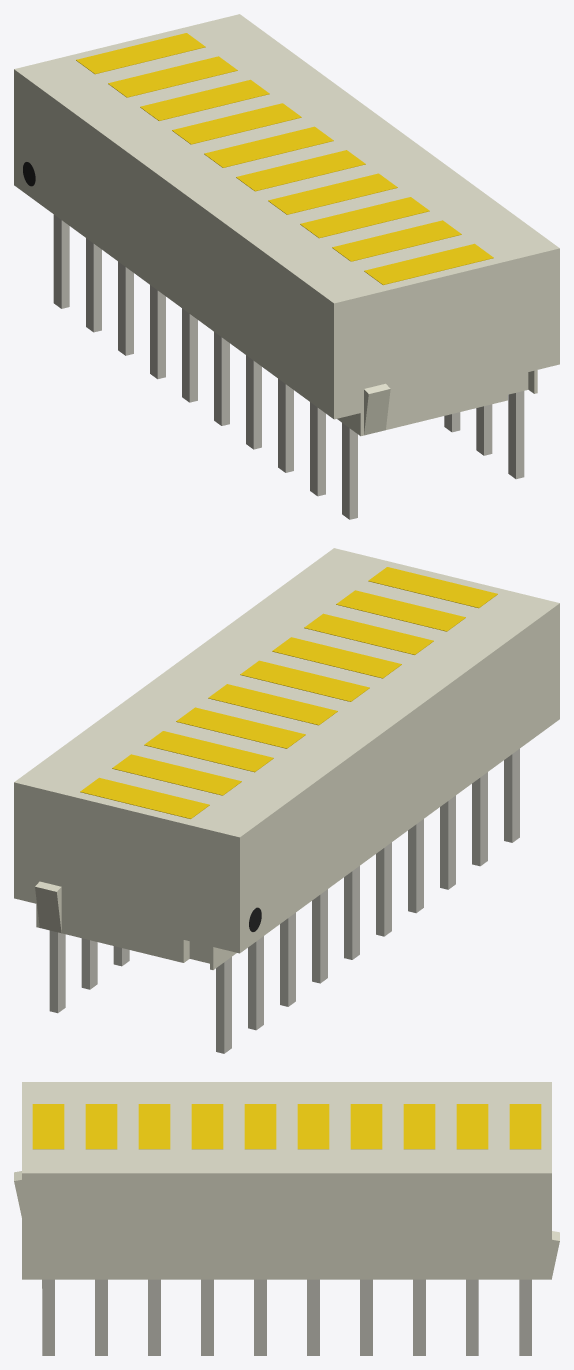
File: kc-hdsp-4840.glb
3 views of the same model, one above another, from view 1: azimuth 30°, elevation 25°; view 2: azimuth 150°, elevation 25°; view 3: azimuth 270°, elevation 25° (orthographic). The views are drawn at different scales.
Parts seen in each view (by area): view 1: 0.75_0.75_0.6666666666666666_0, 0.9166666666666666_0.6666666666666666_0_0, 0.6666666666666666_0.6666666666666666_0.5833333333333334_0.8; view 2: 0.75_0.75_0.6666666666666666_0, 0.9166666666666666_0.6666666666666666_0_0, 0.6666666666666666_0.6666666666666666_0.5833333333333334_0.8; view 3: 0.75_0.75_0.6666666666666666_0, 0.9166666666666666_0.6666666666666666_0_0, 0.6666666666666666_0.6666666666666666_0.5833333333333334_0.8.
Boxes of the visible parts, left/top/right/bottom form: 0.75_0.75_0.6666666666666666_0: left=14, top=14, right=559, bottom=436; 0.9166666666666666_0.6666666666666666_0_0: left=76, top=33, right=493, bottom=285; 0.6666666666666666_0.6666666666666666_0.5833333333333334_0.8: left=53, top=214, right=524, bottom=519; 0.75_0.75_0.6666666666666666_0: left=14, top=548, right=559, bottom=969; 0.9166666666666666_0.6666666666666666_0_0: left=80, top=567, right=497, bottom=818; 0.6666666666666666_0.6666666666666666_0.5833333333333334_0.8: left=49, top=749, right=519, bottom=1053; 0.75_0.75_0.6666666666666666_0: left=14, top=1082, right=559, bottom=1279; 0.9166666666666666_0.6666666666666666_0_0: left=32, top=1104, right=541, bottom=1149; 0.6666666666666666_0.6666666666666666_0.5833333333333334_0.8: left=42, top=1279, right=531, bottom=1355.
Size of the model in its own units: 1.04 by 1.02 by 2.62.
